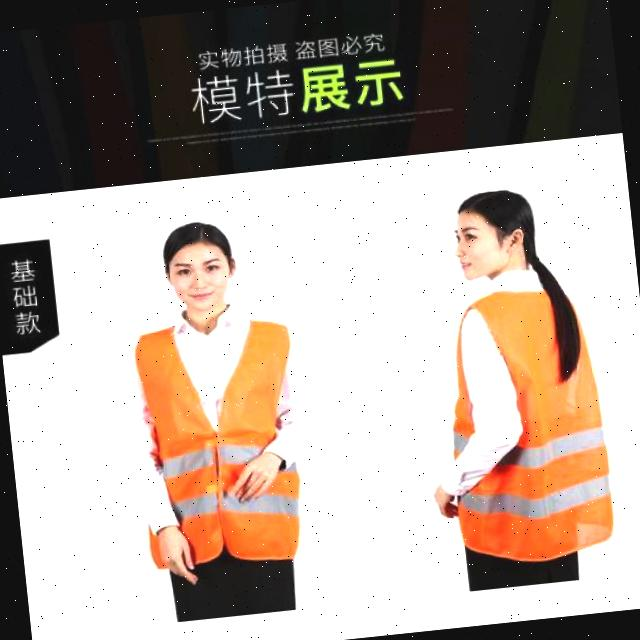vest: (424, 290, 618, 566), (130, 310, 310, 572)
